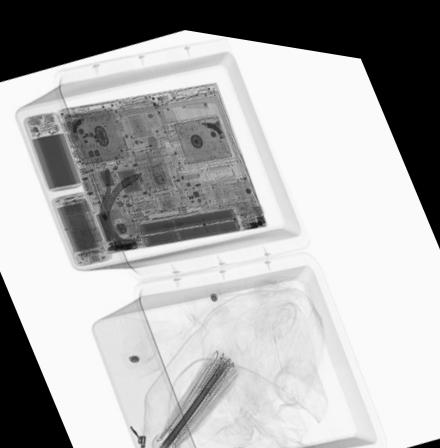Powerbank: (23, 108, 85, 186)
